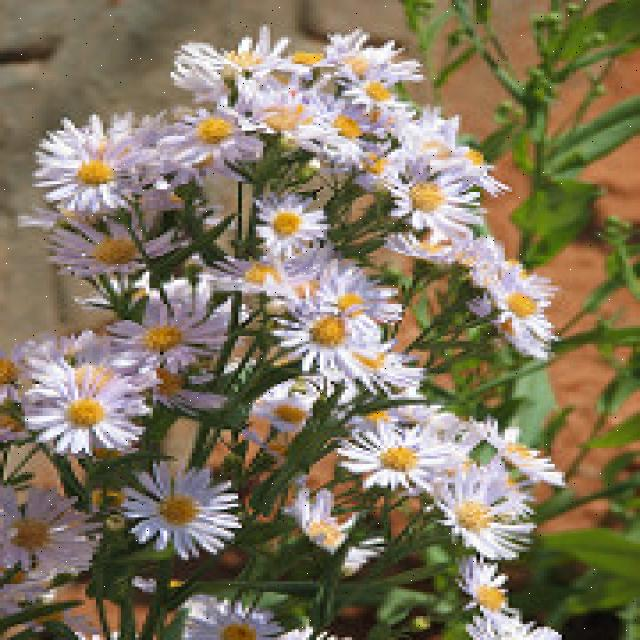Bloomed: (0, 112, 206, 235), (259, 283, 396, 398), (384, 157, 502, 266), (30, 358, 149, 464), (347, 412, 457, 511)
